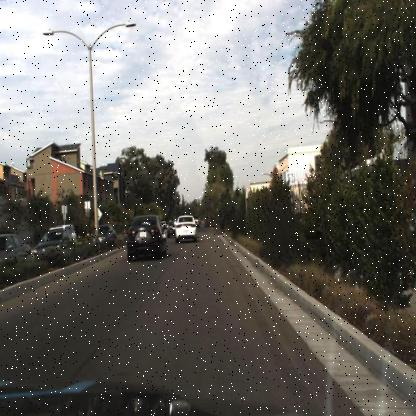car: (124, 208, 167, 267), (26, 226, 77, 262), (32, 226, 81, 263), (0, 230, 34, 271), (86, 216, 120, 254), (172, 206, 202, 249), (164, 217, 176, 241)
